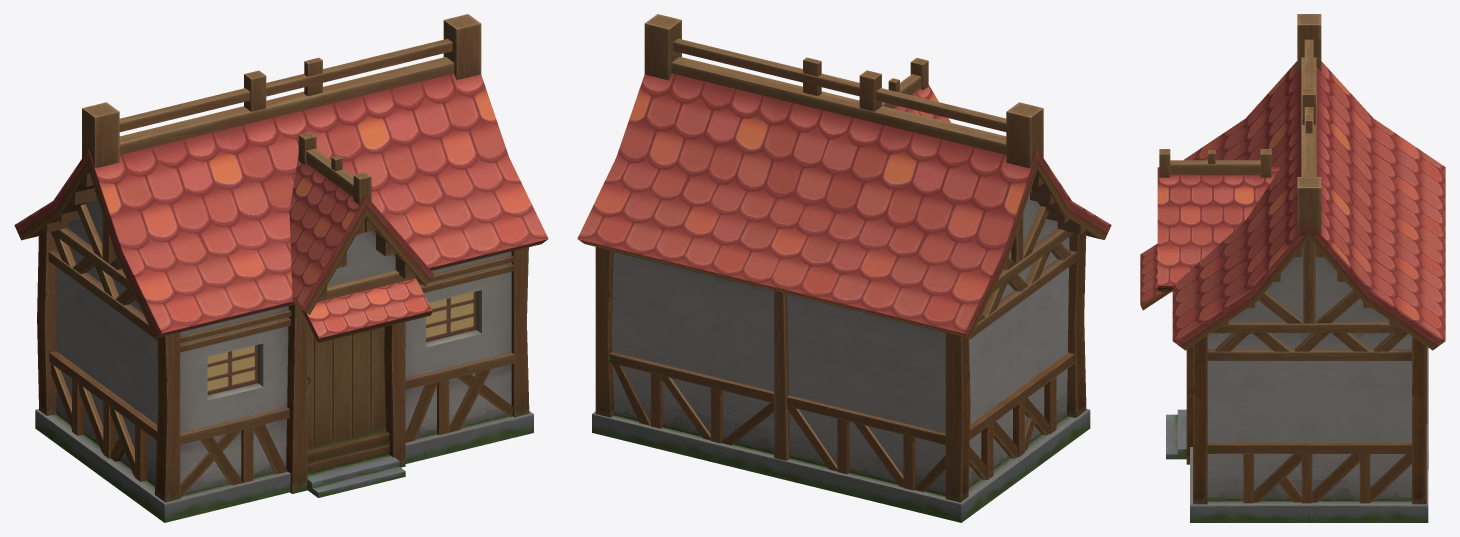
The model's file is scene_lawennushandao_building03a.FBX.
3 views of the same model, side by side, from view 1: azimuth 30°, elevation 25°; view 2: azimuth 150°, elevation 25°; view 3: azimuth 270°, elevation 25° (orthographic). The views are drawn at different scales.
Visible parts, largest first — view 1: scene_lawennushandao_building03a; view 2: scene_lawennushandao_building03a; view 3: scene_lawennushandao_building03a.
Part boxes in pixels (box(x1,y1,x2,y2)): scene_lawennushandao_building03a: box(14, 14, 548, 522); scene_lawennushandao_building03a: box(577, 14, 1111, 522); scene_lawennushandao_building03a: box(1140, 14, 1445, 522).
Size of the model in its own units: 616 by 558 by 456.
